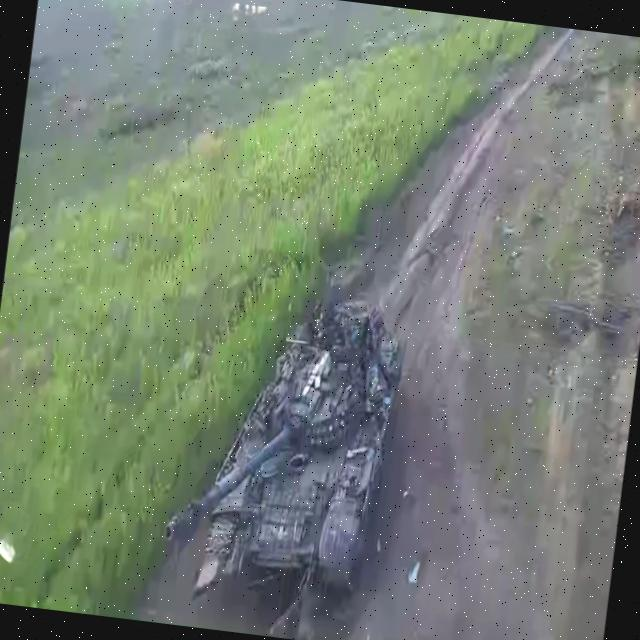MBT: (152, 276, 413, 630)
